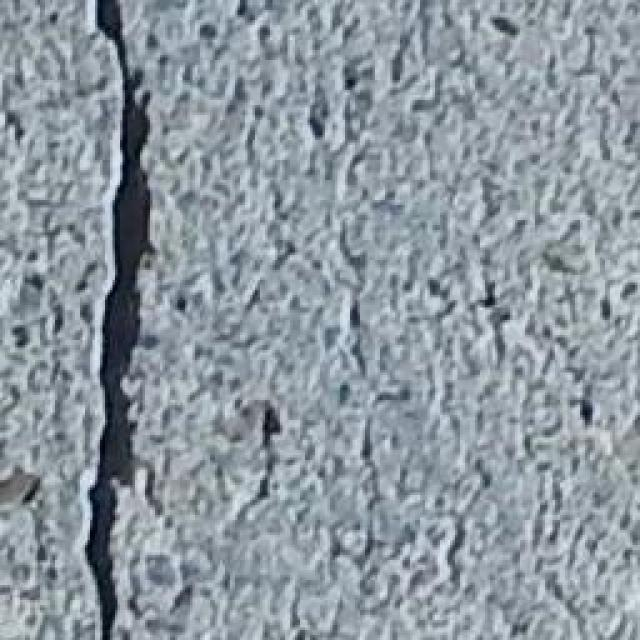concrete-crack: (80, 0, 160, 640)
